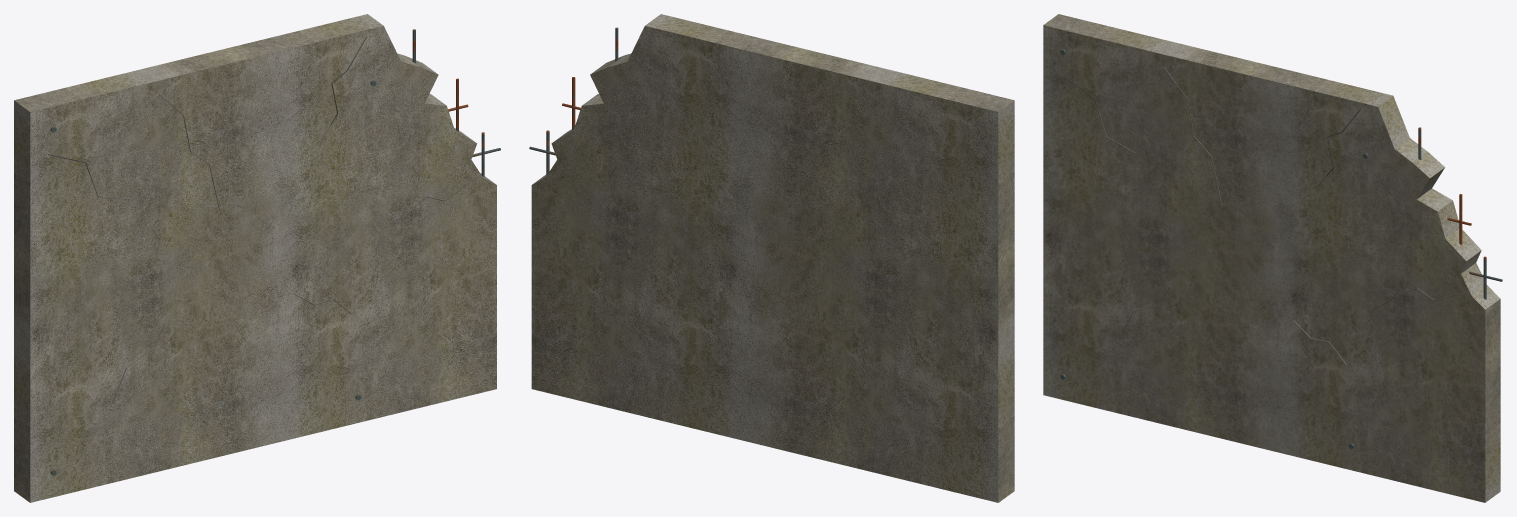
The model's file is damaged_wall_refined.glb.
The picture shows the model from 3 angles, left to right: view 1: azimuth 30°, elevation 25°; view 2: azimuth 150°, elevation 25°; view 3: azimuth 330°, elevation 25°; orthographic projection. The views are drawn at different scales.
Visible parts, largest first — view 1: Damaged rear | DamagedConcreteStructuralCore.001, Damaged rear | Crack_0_0.001, Damaged rear | ExposedRebarHorizontal_0.001; view 2: Damaged rear | DamagedConcreteStructuralCore.001, Damaged rear | ExposedRebarHorizontal_0.001; view 3: Damaged rear | DamagedConcreteStructuralCore.001, Damaged rear | Crack_0_0.001, Damaged rear | ExposedRebarHorizontal_0.001.
Part boxes in pixels (x1,y1,x2,y2): Damaged rear | DamagedConcreteStructuralCore.001: [14, 14, 496, 502]; Damaged rear | Crack_0_0.001: [48, 36, 476, 404]; Damaged rear | ExposedRebarHorizontal_0.001: [50, 29, 500, 475]; Damaged rear | DamagedConcreteStructuralCore.001: [531, 14, 1014, 502]; Damaged rear | ExposedRebarHorizontal_0.001: [529, 27, 618, 175]; Damaged rear | DamagedConcreteStructuralCore.001: [1043, 14, 1500, 502]; Damaged rear | Crack_0_0.001: [1059, 68, 1464, 364]; Damaged rear | ExposedRebarHorizontal_0.001: [1060, 49, 1502, 448].
Size of the model in its own units: 4.09 by 3.2 by 0.269.
3 materials, 3 textured.
